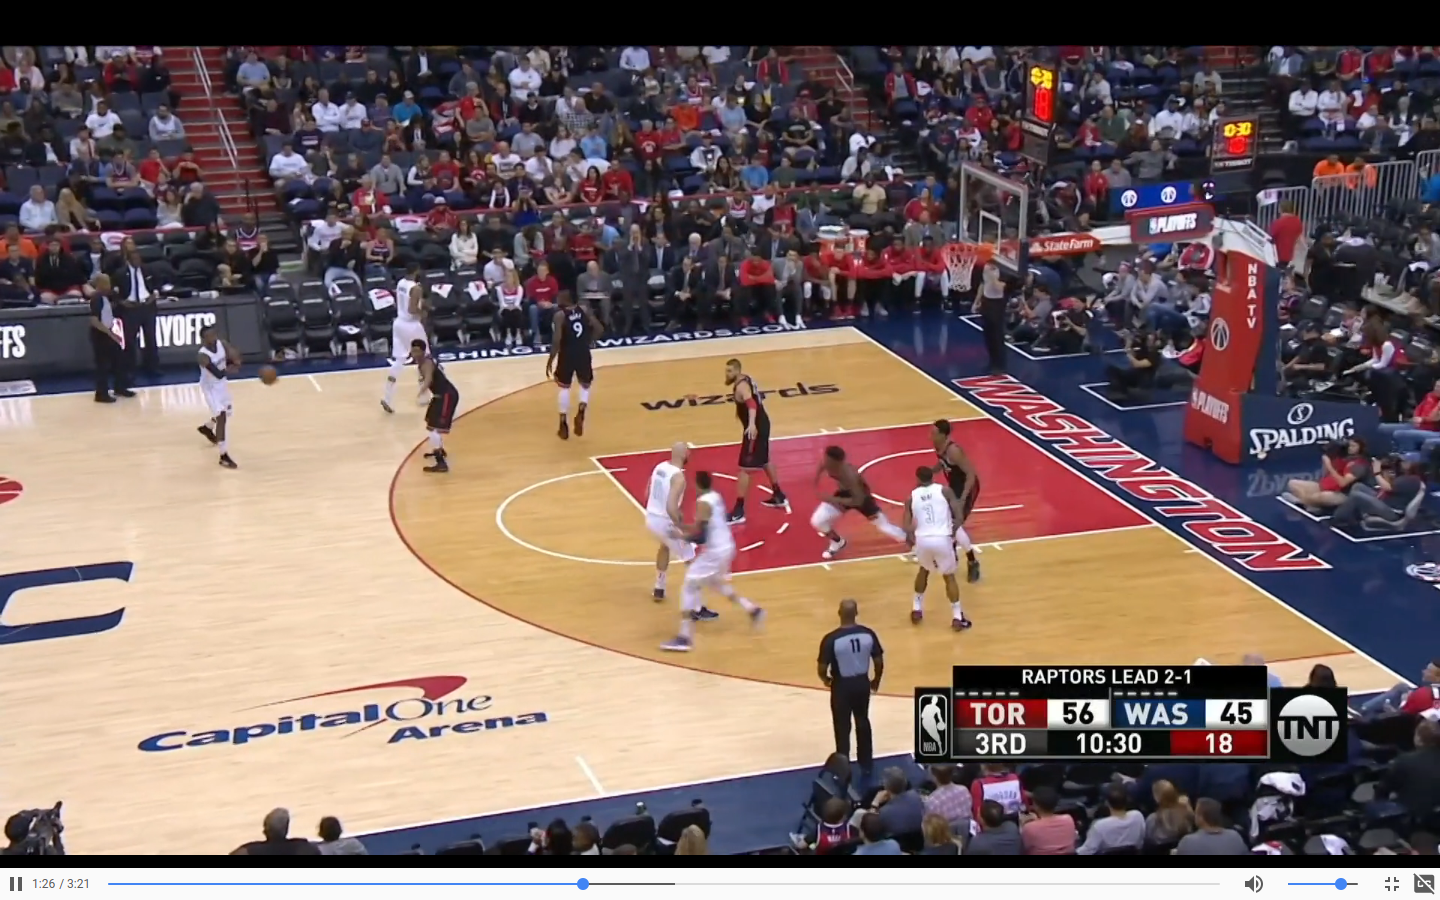basketball: (256, 362, 284, 386)
basketball player: (898, 463, 972, 640), (808, 437, 907, 565), (681, 472, 753, 649), (538, 283, 610, 442), (721, 360, 782, 520), (936, 405, 988, 572), (378, 263, 432, 420), (412, 336, 467, 480), (645, 439, 692, 608), (193, 320, 242, 476)
referee: (810, 594, 887, 769), (84, 274, 130, 411), (975, 260, 1012, 385)
